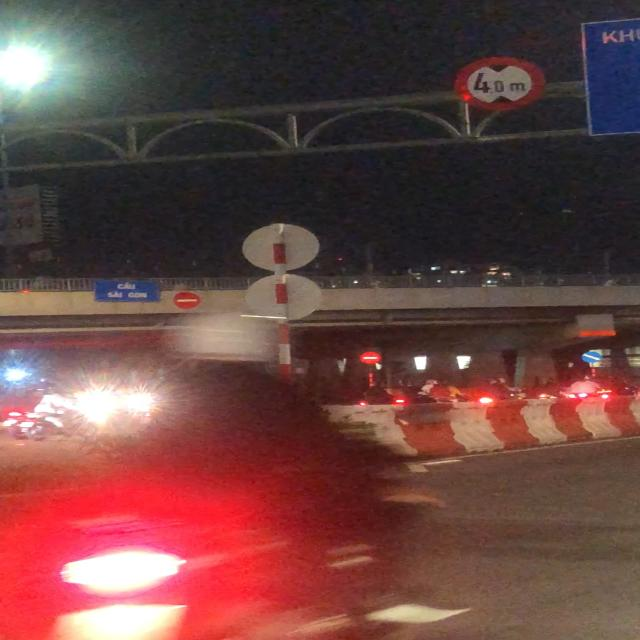Bien bao cam di nguoc chieu: (171, 290, 204, 310), (358, 350, 382, 364)
Bien bao han che chieu cao: (449, 56, 557, 112)
Bien bao huong phai di vong chuong ngai vat: (580, 350, 604, 364)
